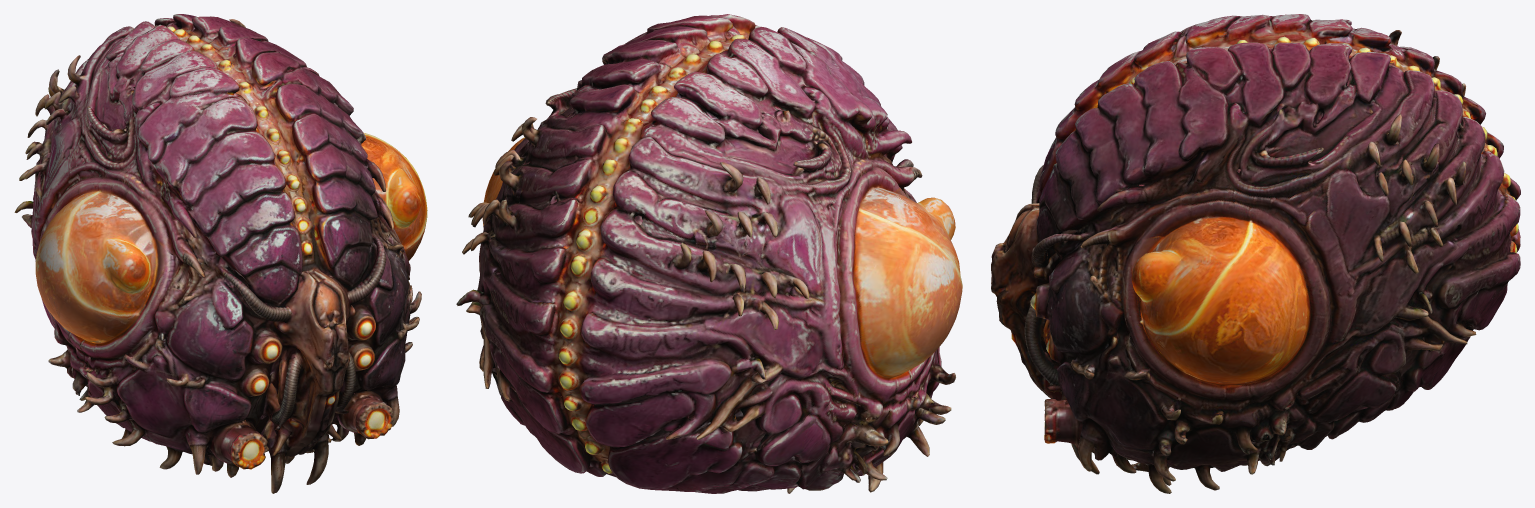
The picture shows the model from 3 angles, left to right: view 1: azimuth 30°, elevation 25°; view 2: azimuth 150°, elevation 25°; view 3: azimuth 270°, elevation 25°; orthographic projection. The views are drawn at different scales.
Size of the model in its own units: 0.8989 by 0.9192 by 1.
Materials: 1 (1 with a texture image).
